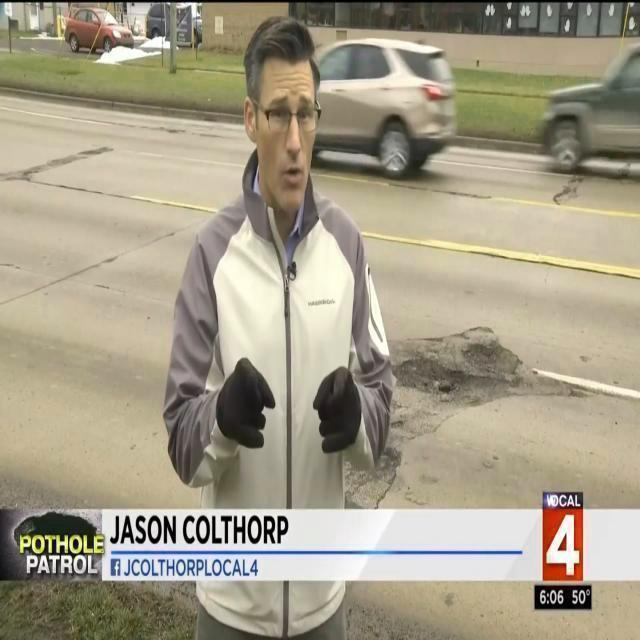pothole: (345, 326, 561, 507)
